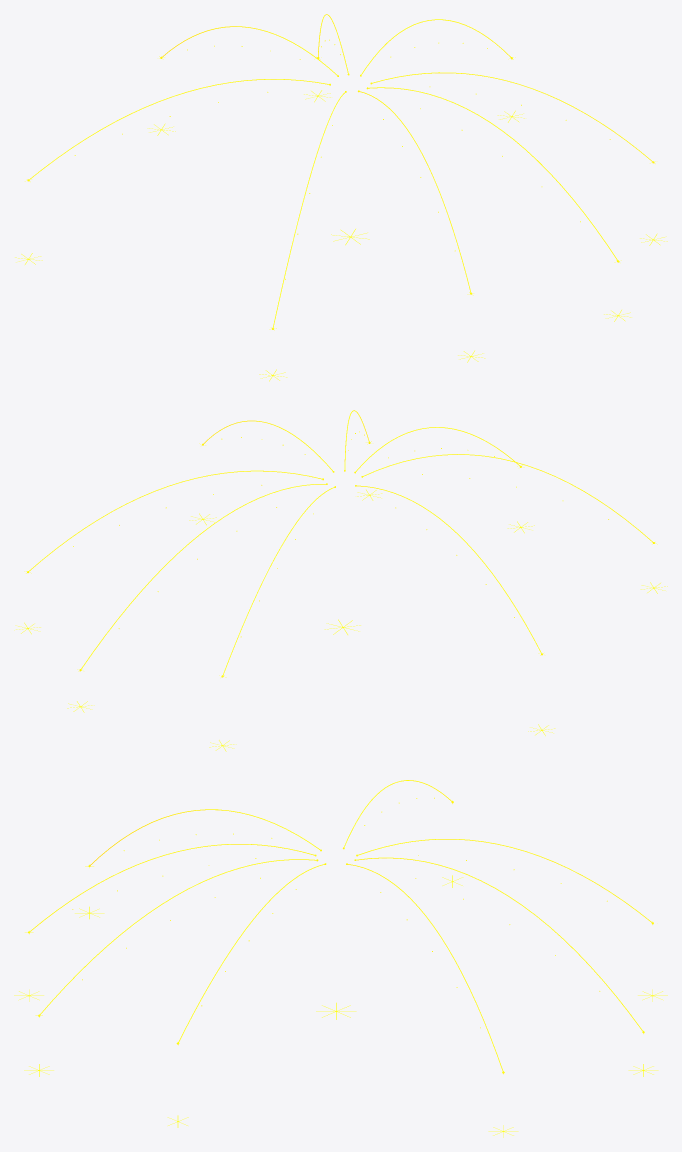
The model's file is hard-pipelines.glb.
3 views of the same model, one above another, from view 1: azimuth 30°, elevation 25°; view 2: azimuth 150°, elevation 25°; view 3: azimuth 270°, elevation 25° (orthographic). The views are drawn at different scales.
Visible parts, largest first — view 1: no part large enough to name; view 2: no part large enough to name; view 3: hard_pipeline_sia_to_nutrition.
Boxes of the visible parts, x1,y1,x2,y2 form: hard_pipeline_sia_to_nutrition: [354, 857, 658, 1076].
Bounding box in the file's own units: 134 × 39.59 × 140.
